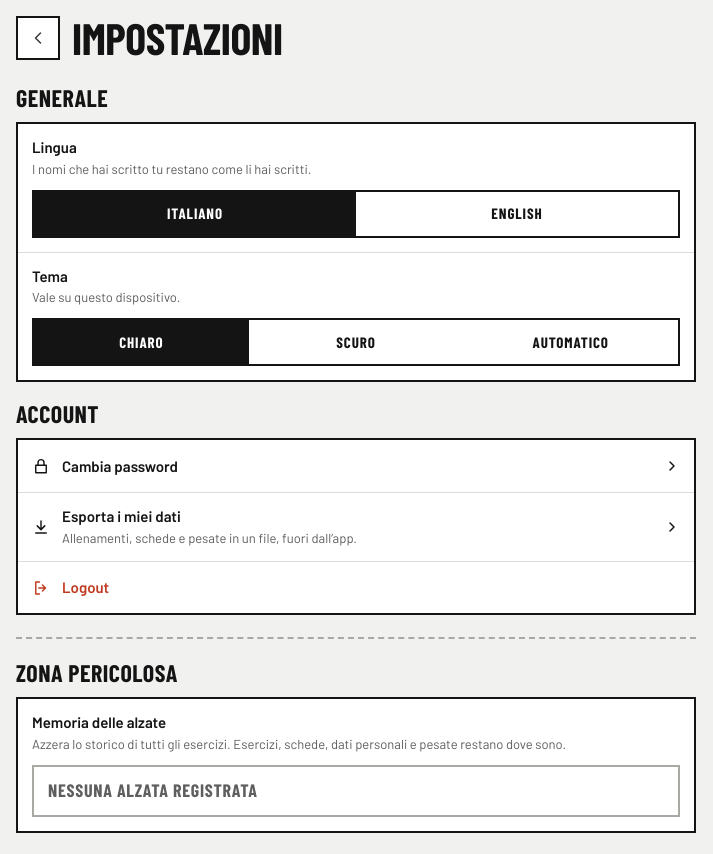
Test: il profilo › un errore cambiando la password arriva tradotto, mai col testo grezzo del server
Click the button "Cambia password" at (120, 466), box top-left (18, 440), bottom-right (694, 492)
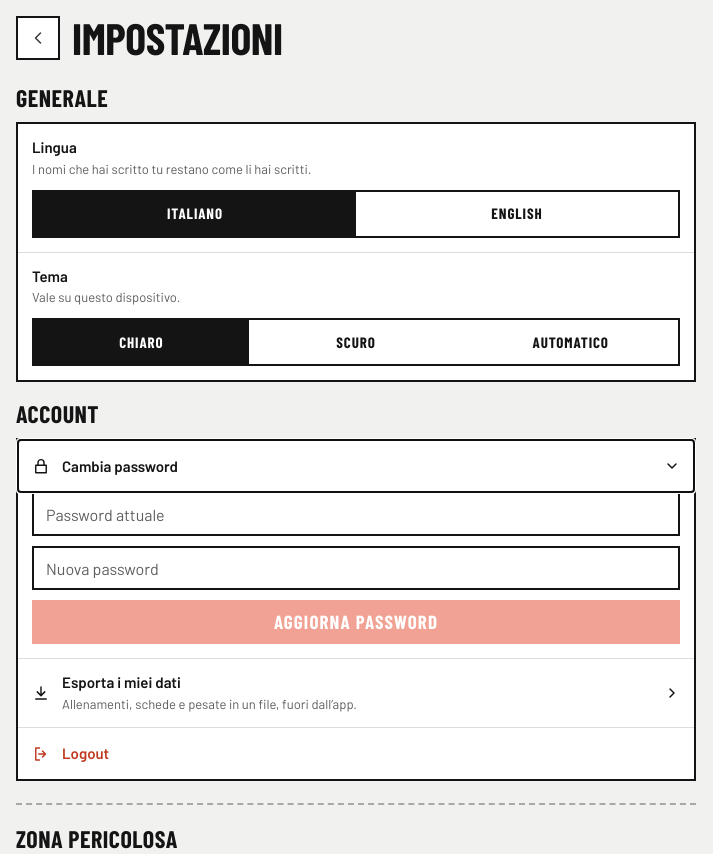
Type "vecchia1" into the password field with placeholder "Password attuale" at (356, 514), box top-left (32, 492), bottom-right (680, 536)
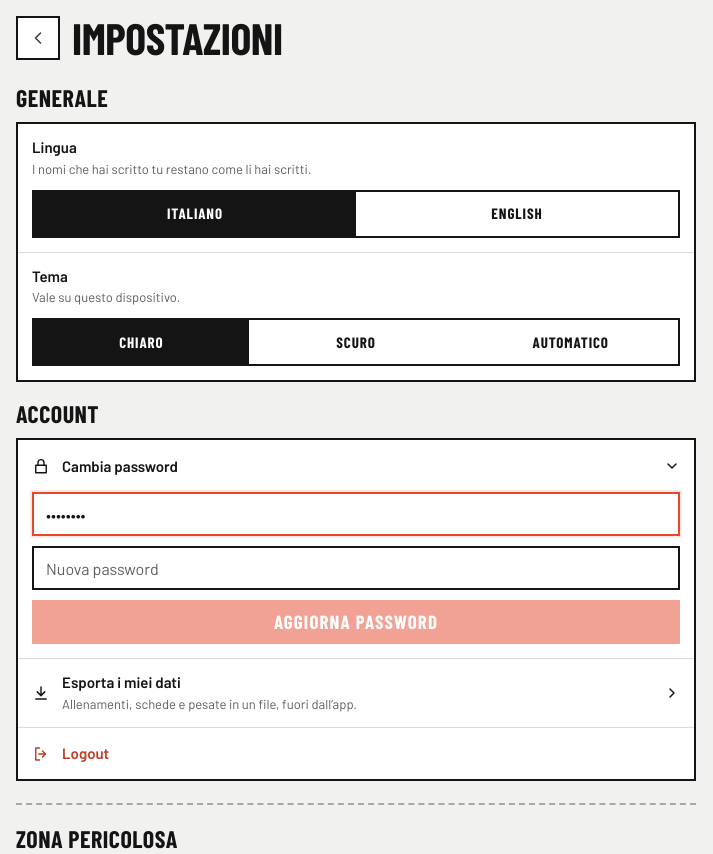
Type "vecchia1" into the password field with placeholder "Nuova password" at (356, 568), box top-left (32, 546), bottom-right (680, 590)
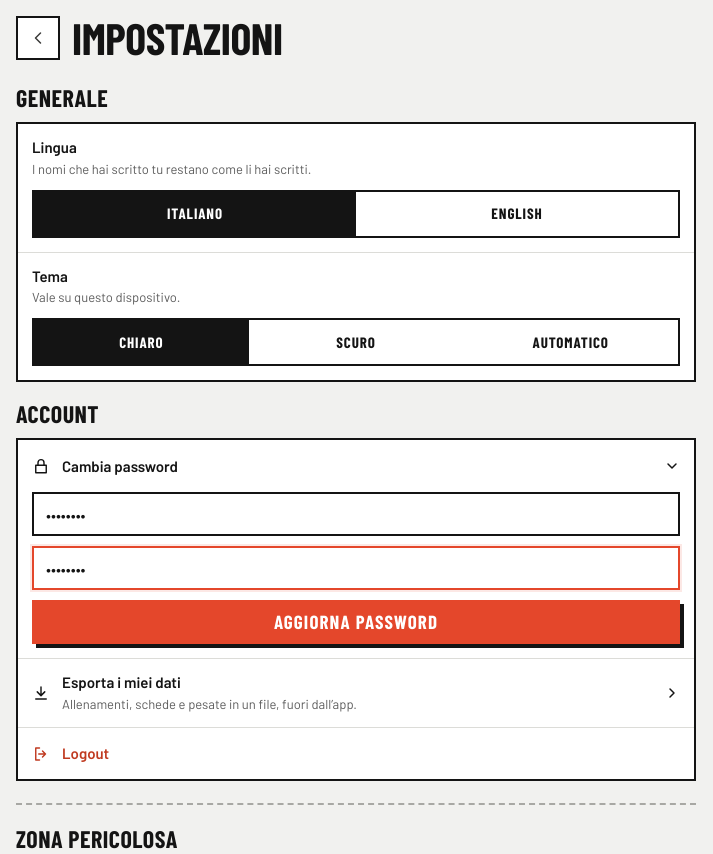
Click the button "Aggiorna password" at (356, 622), box top-left (32, 600), bottom-right (680, 644)
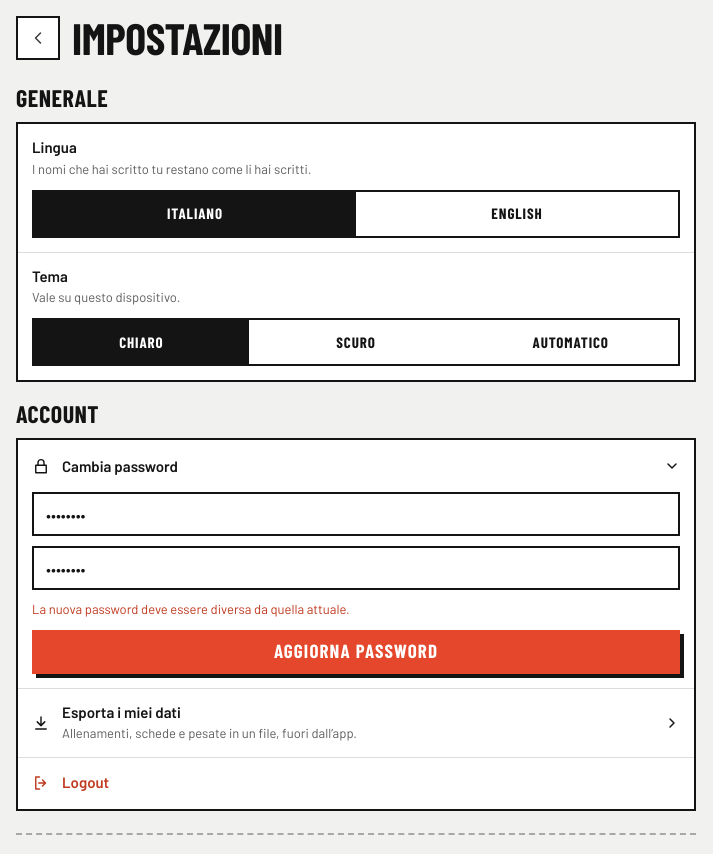
Expected: the text "La nuova password deve essere diversa da quella attuale." is shown, top-left (32, 601), bottom-right (350, 617)
Click the button "Aggiorna password" at (356, 652), box top-left (32, 630), bottom-right (680, 674)
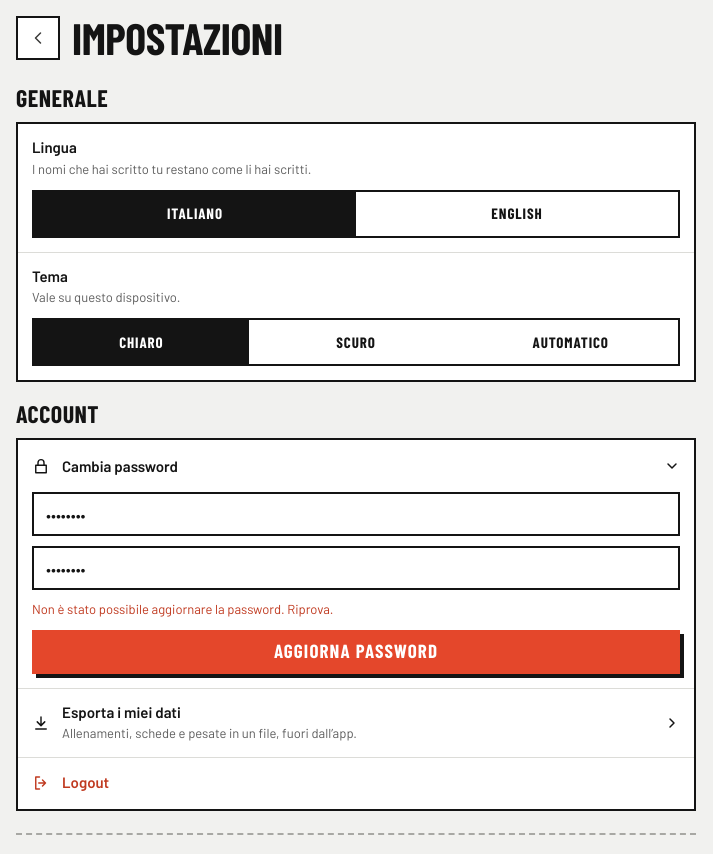
Expected: the text "Non è stato possibile aggiornare la password. Riprova." is shown, top-left (32, 601), bottom-right (334, 617)
